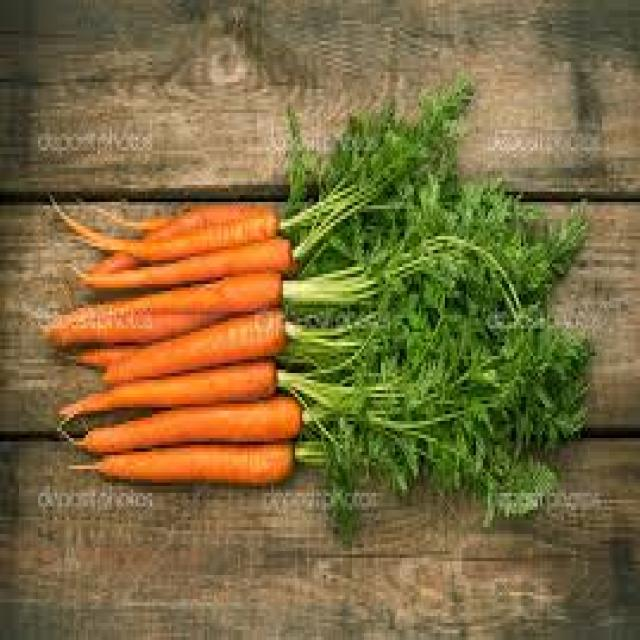Carrot: (61, 358, 278, 417)
